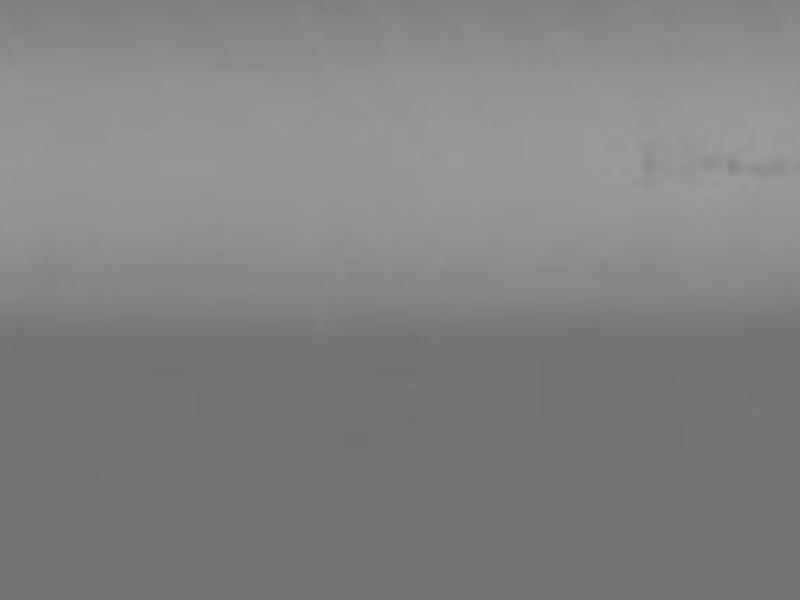defect: (745, 154, 788, 182), (639, 139, 661, 190), (694, 148, 720, 179), (726, 154, 743, 180)
